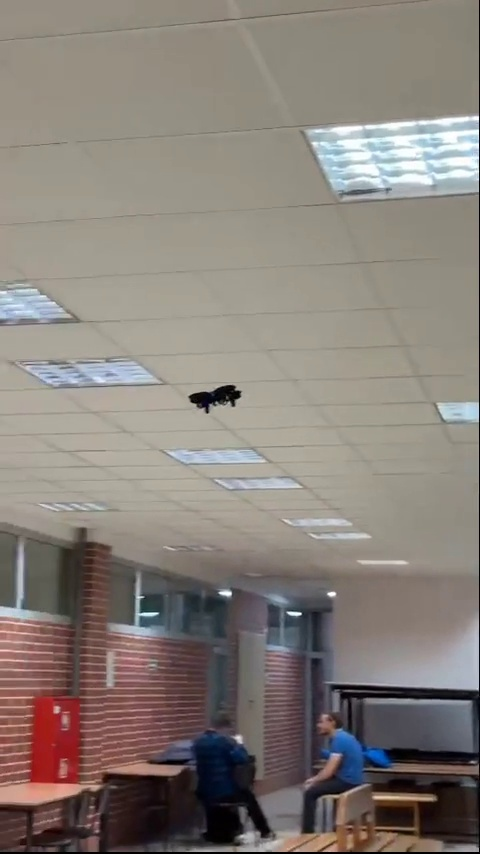drone: (184, 384, 241, 413)
no vest: (193, 711, 277, 837), (293, 709, 372, 816)
